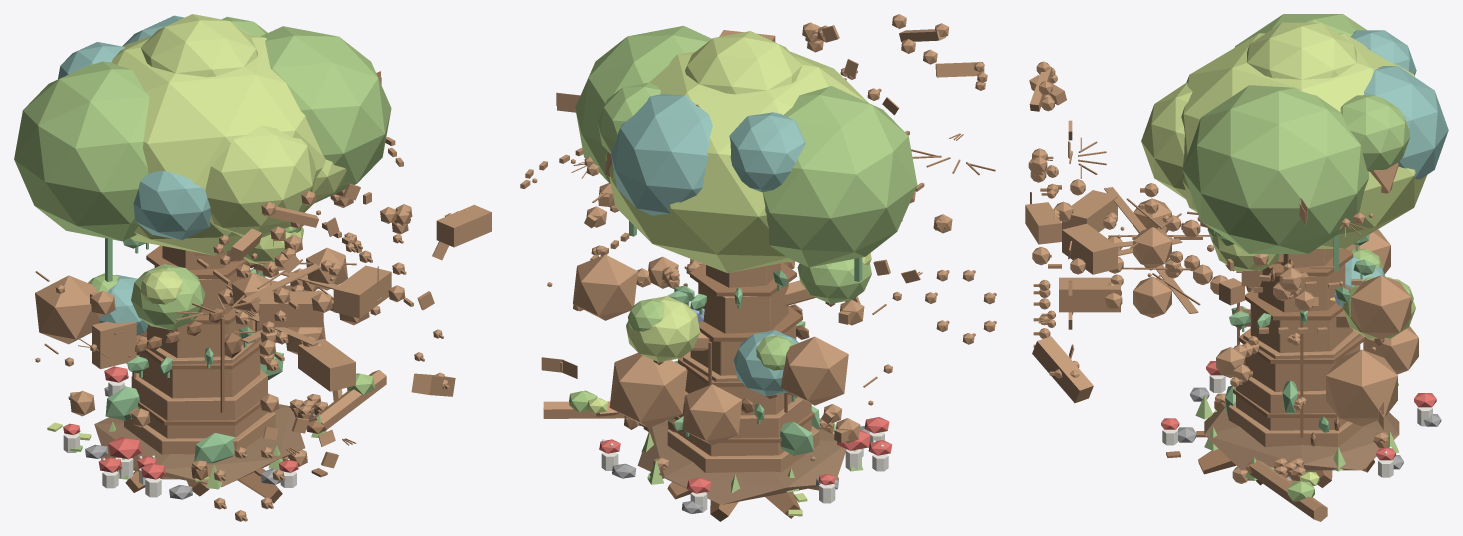
The model's file is oak.glb.
The picture shows the model from 3 angles, left to right: view 1: azimuth 30°, elevation 25°; view 2: azimuth 150°, elevation 25°; view 3: azimuth 270°, elevation 25°; orthographic projection. The views are drawn at different scales.
Parts seen in each view (by area): view 1: Tree; view 2: Tree; view 3: Tree.
Boxes of the visible parts, left/top/right/bottom form: Tree: left=14, top=14, right=491, bottom=521; Tree: left=520, top=14, right=996, bottom=521; Tree: left=1025, top=14, right=1448, bottom=521.
Size of the model in its own units: 1.77 by 2.1 by 1.84.
